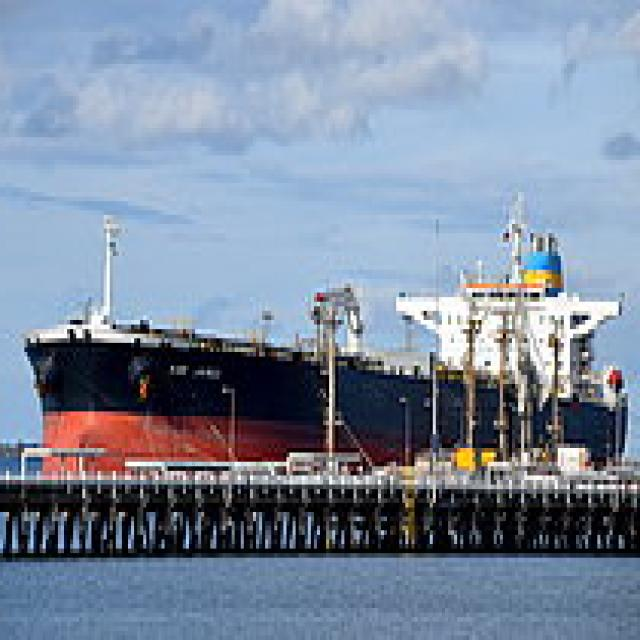Tanker: (21, 156, 634, 489)
